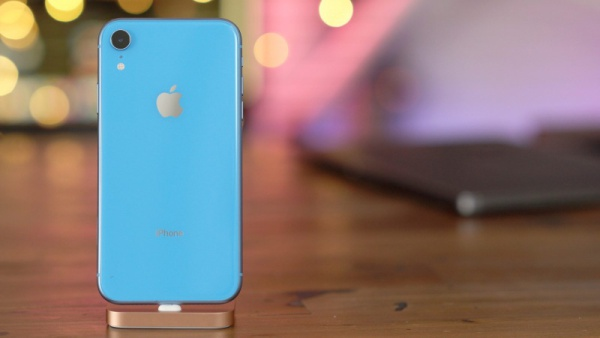apple: (150, 80, 202, 121)
